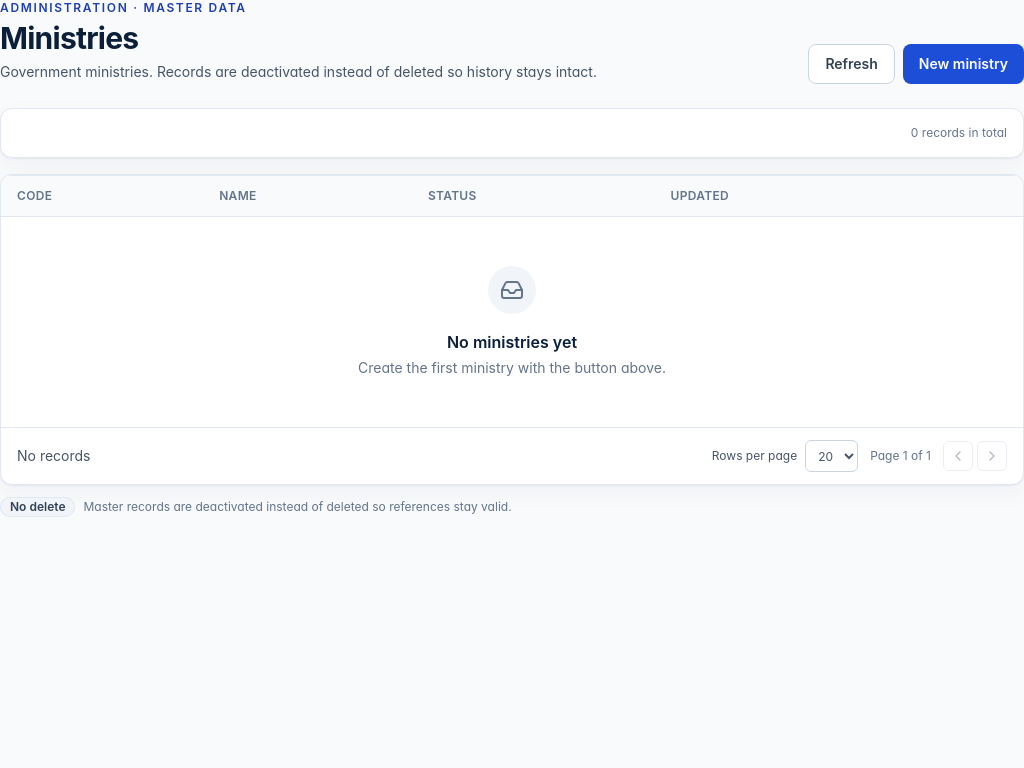
Test: MasterDataPage › validates the create form and sends the exact ministry request
The image size is (1024, 768).
Later steps or results of the test are not shown.
Expected: the heading "Ministries" is shown, [0,20,138,56]
Click the button "New ministry": (963, 64) [903,44,1023,84]
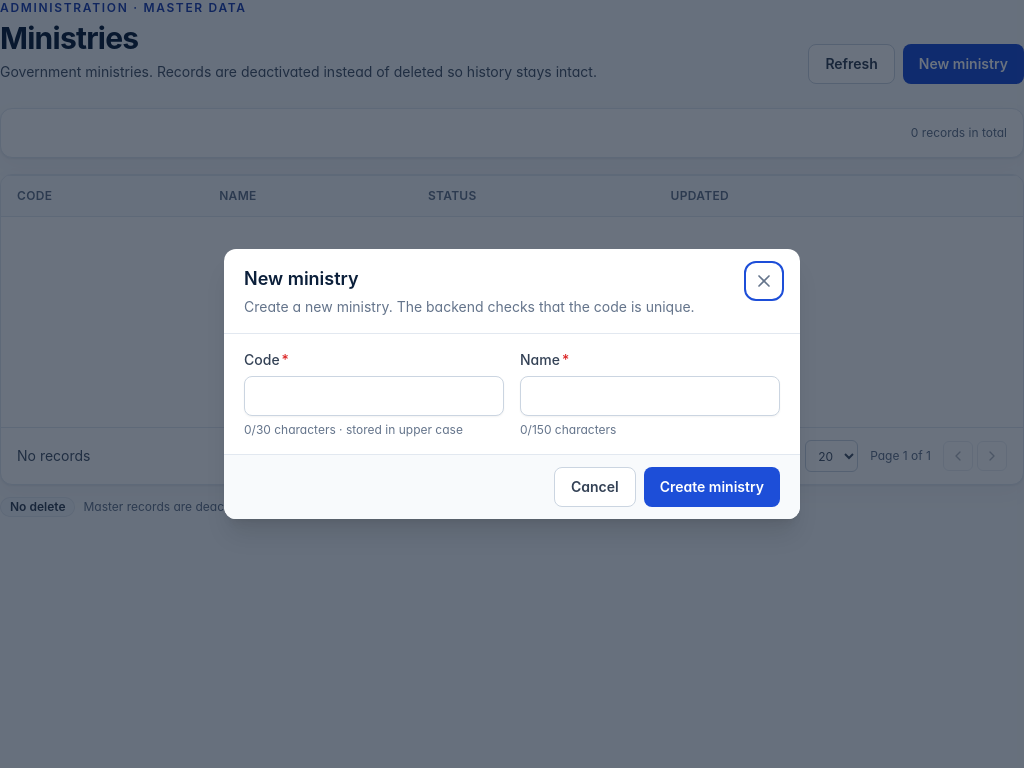
Click the button "Create ministry": (712, 487) [644,467,780,507]
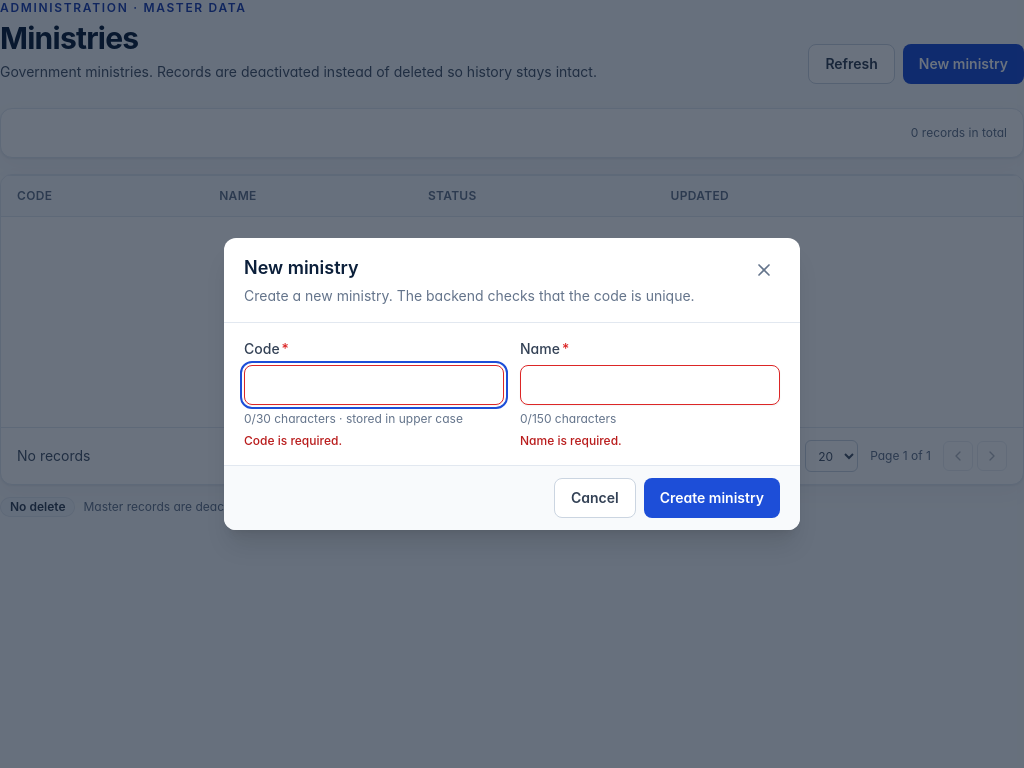
Result: the text "Code is required." is shown at [244,433,342,448]
Result: the text "Name is required." is shown at [520,433,622,448]
